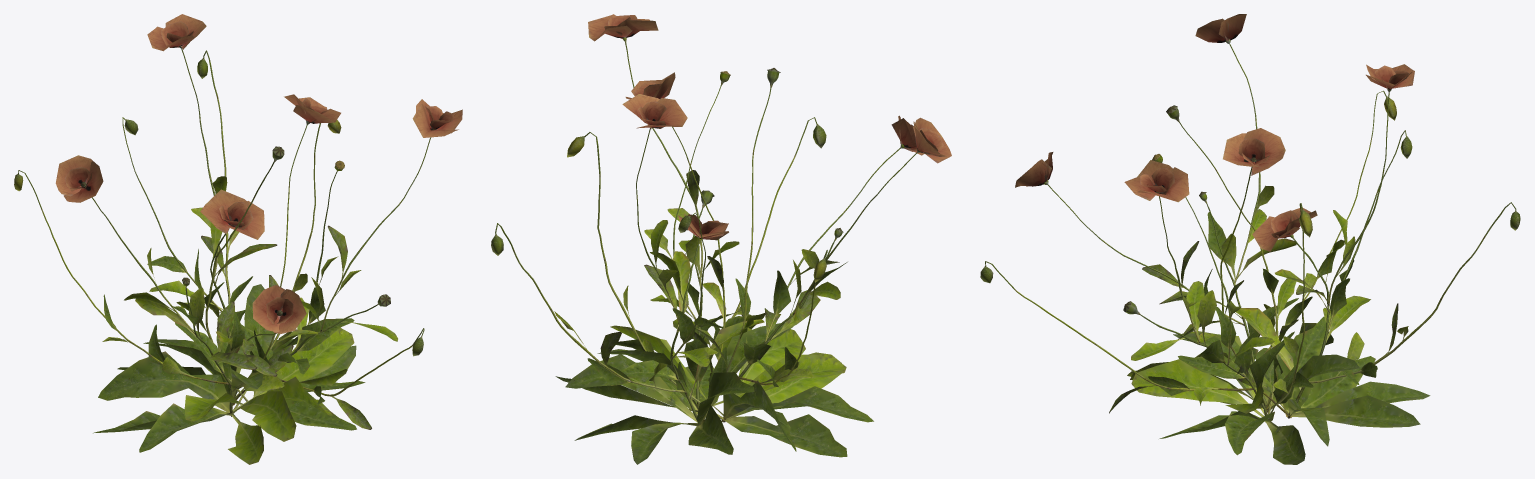
The model's file is Poppy_bush_long_peach.glb.
3 views of the same model, side by side, from view 1: azimuth 30°, elevation 25°; view 2: azimuth 150°, elevation 25°; view 3: azimuth 270°, elevation 25° (orthographic). The views are drawn at different scales.
Parts seen in each view (by area): view 1: large bush; view 2: large bush; view 3: large bush.
Part boxes in pixels (left/top/right/bottom): large bush: left=14, top=14, right=462, bottom=464; large bush: left=491, top=14, right=951, bottom=464; large bush: left=980, top=14, right=1520, bottom=464.
Bounding box in the file's own units: 6 × 5.32 × 7.44.
Materials: 1 (1 with a texture image).
